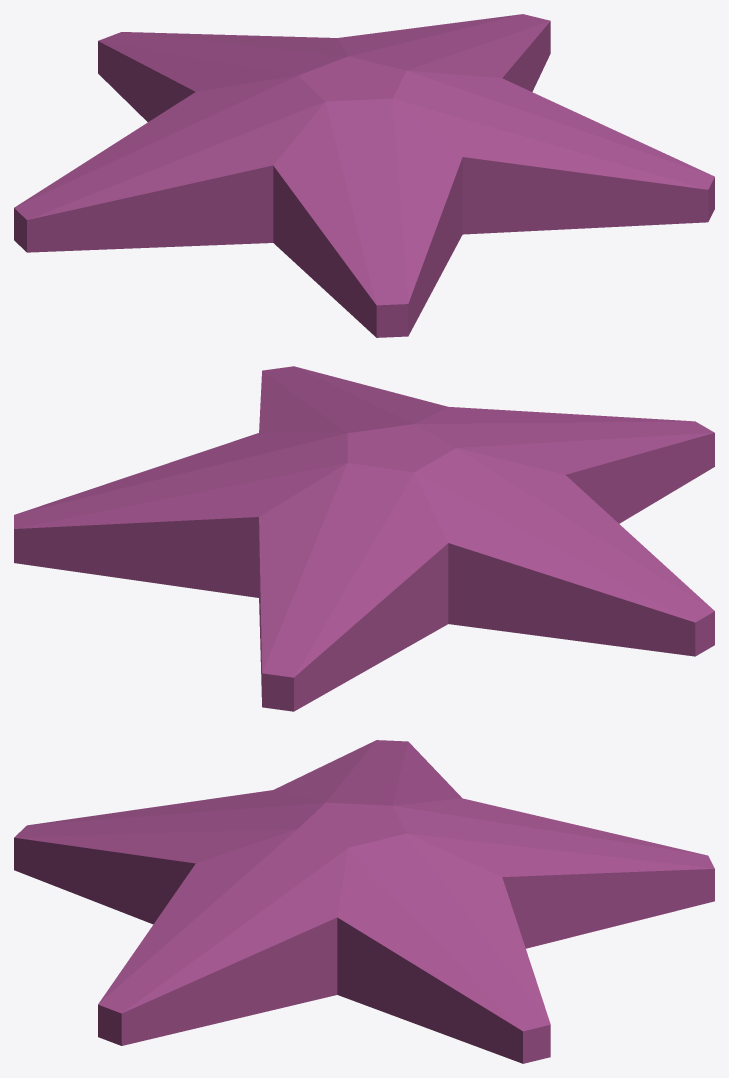
File: Starfish1.fbx
3 views of the same model, one above another, from view 1: azimuth 30°, elevation 25°; view 2: azimuth 150°, elevation 25°; view 3: azimuth 270°, elevation 25° (orthographic). The views are drawn at different scales.
Parts seen in each view (by area): view 1: Starfish1; view 2: Starfish1; view 3: Starfish1.
Boxes of the visible parts, left/top/right/bottom form: Starfish1: left=14, top=14, right=714, bottom=337; Starfish1: left=14, top=366, right=714, bottom=711; Starfish1: left=14, top=740, right=714, bottom=1063.
Bounding box in the file's own units: 0.625 × 0.1031 × 0.6354.
